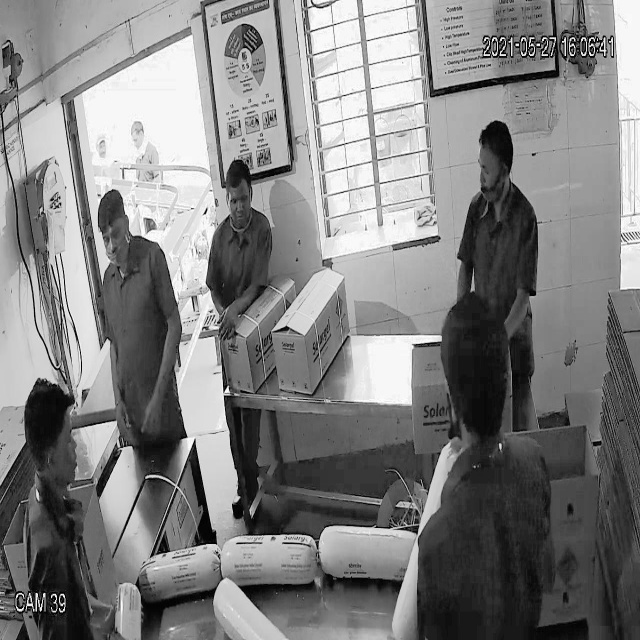Sin_gafas: (470, 154, 514, 189), (98, 221, 134, 254)
